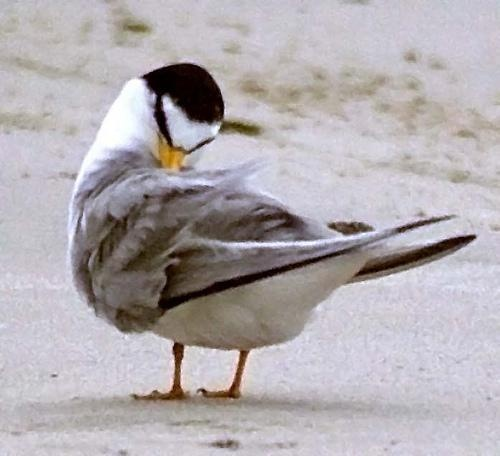bird: (66, 60, 476, 399)
